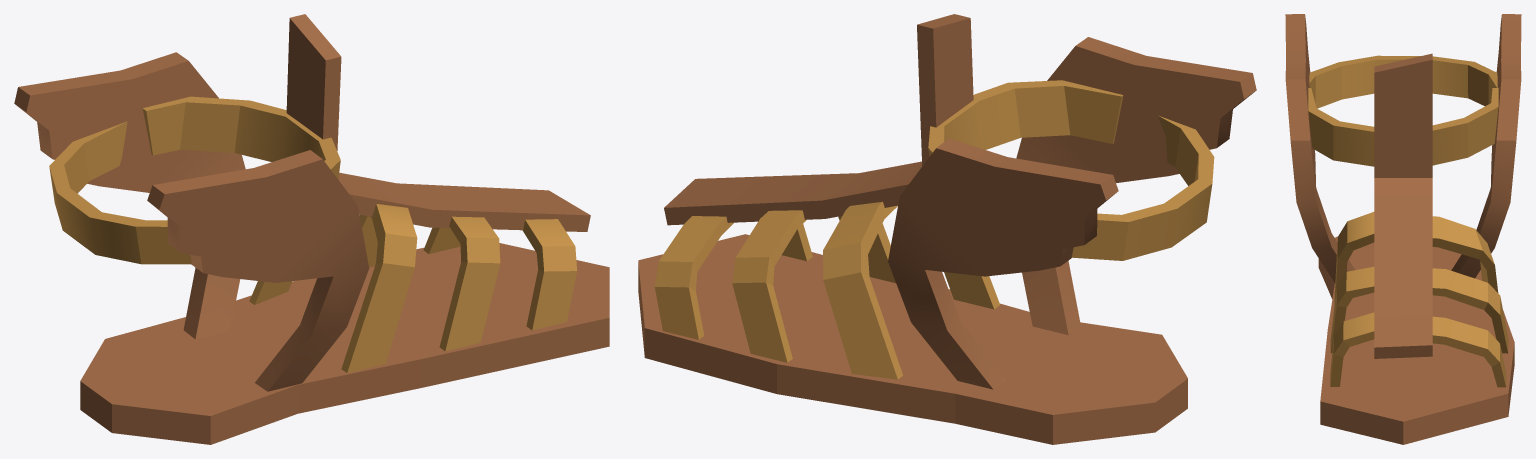
The model's file is Sandals.fbx.
3 views of the same model, side by side, from view 1: azimuth 30°, elevation 25°; view 2: azimuth 150°, elevation 25°; view 3: azimuth 270°, elevation 25° (orthographic). The views are drawn at different scales.
Parts seen in each view (by area): view 1: polySurface3; view 2: polySurface3; view 3: polySurface3.
Part boxes in pixels (x1,y1,x2,y2): polySurface3: (14,14,609,444); polySurface3: (638,14,1256,444); polySurface3: (1285,14,1521,444).
Bounding box in the file's own units: 15.57 × 9.4 × 7.37.
1 material, 1 textured.
